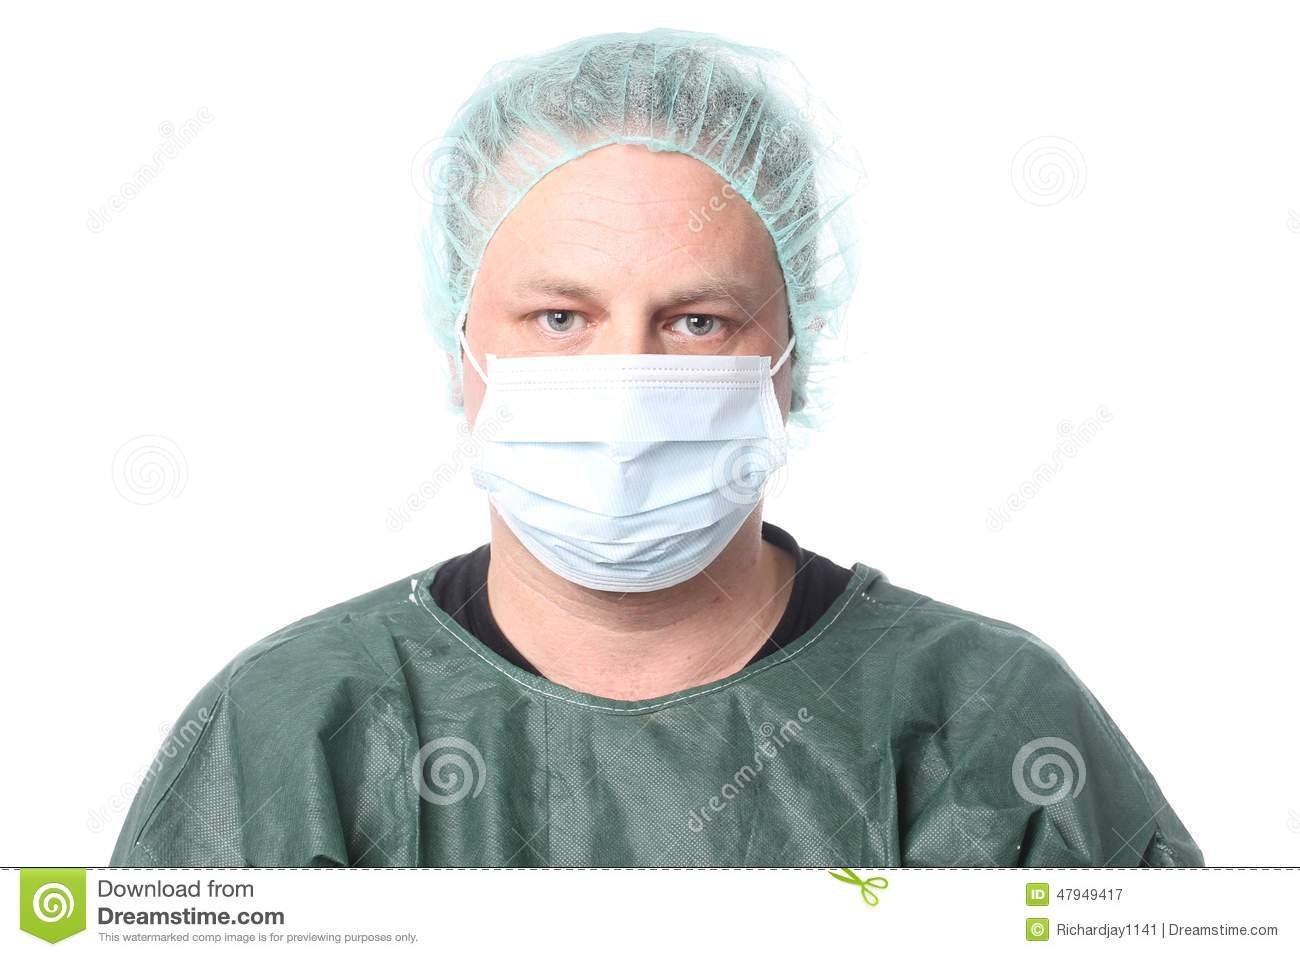mask: (473, 339, 772, 599)
